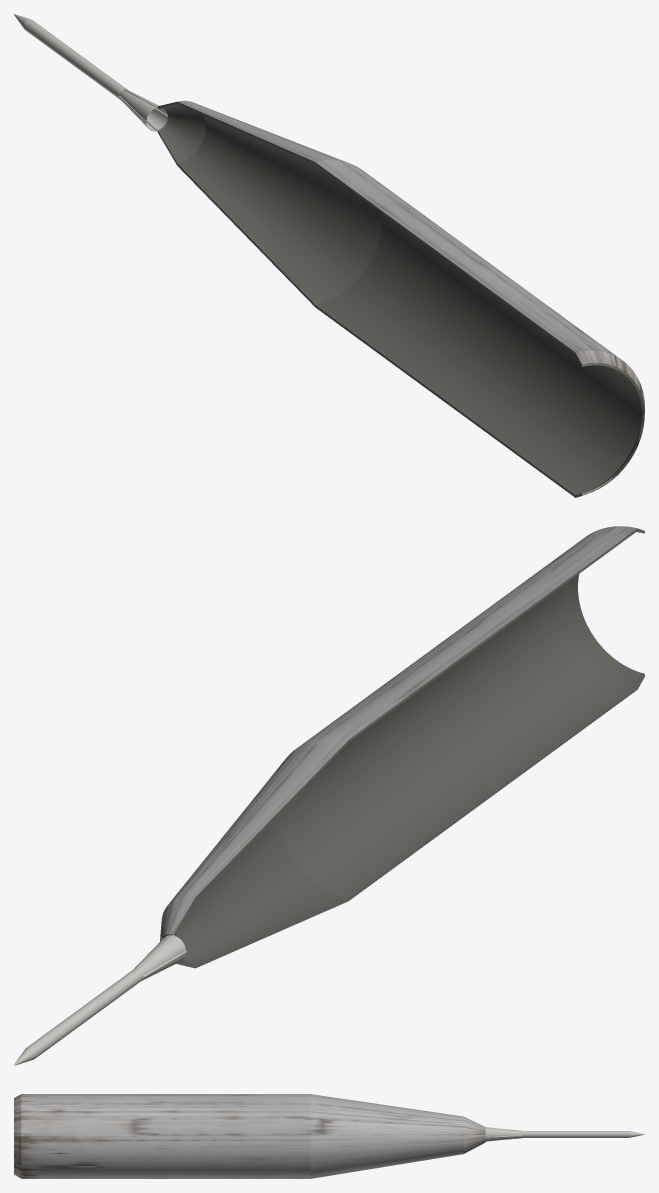
File: shroud_right.obj
3 renders of one model, top to bottom at view 1: azimuth 30°, elevation 25°; view 2: azimuth 150°, elevation 25°; view 3: azimuth 270°, elevation 25°, orthographic. The views are drawn at different scales.
Parts seen in each view (by area): view 1: shroud_interior_right, shroud_right, escape_tower, shroud_edges_right; view 2: shroud_interior_right, shroud_right, escape_tower, shroud_edges_right; view 3: shroud_right, escape_tower.
Boxes of the visible parts, x1,y1,x2,y2 form: shroud_interior_right: (158, 104, 642, 495); shroud_right: (178, 100, 644, 496); escape_tower: (14, 14, 167, 131); shroud_edges_right: (157, 101, 581, 497); shroud_interior_right: (162, 531, 644, 965); shroud_right: (160, 526, 637, 941); escape_tower: (14, 935, 186, 1065); shroud_edges_right: (173, 528, 644, 968); shroud_right: (14, 1094, 485, 1178); escape_tower: (485, 1127, 644, 1141).
Bounding box in the file's own units: 3.58 × 6.1 × 43.2.
4 materials, 1 textured.
